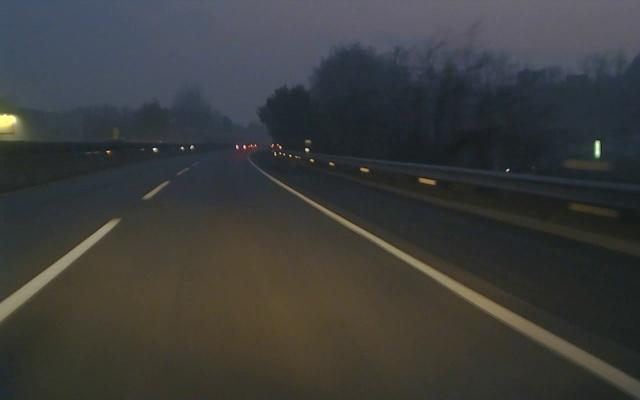lane: (261, 172, 640, 400), (0, 180, 173, 324)
